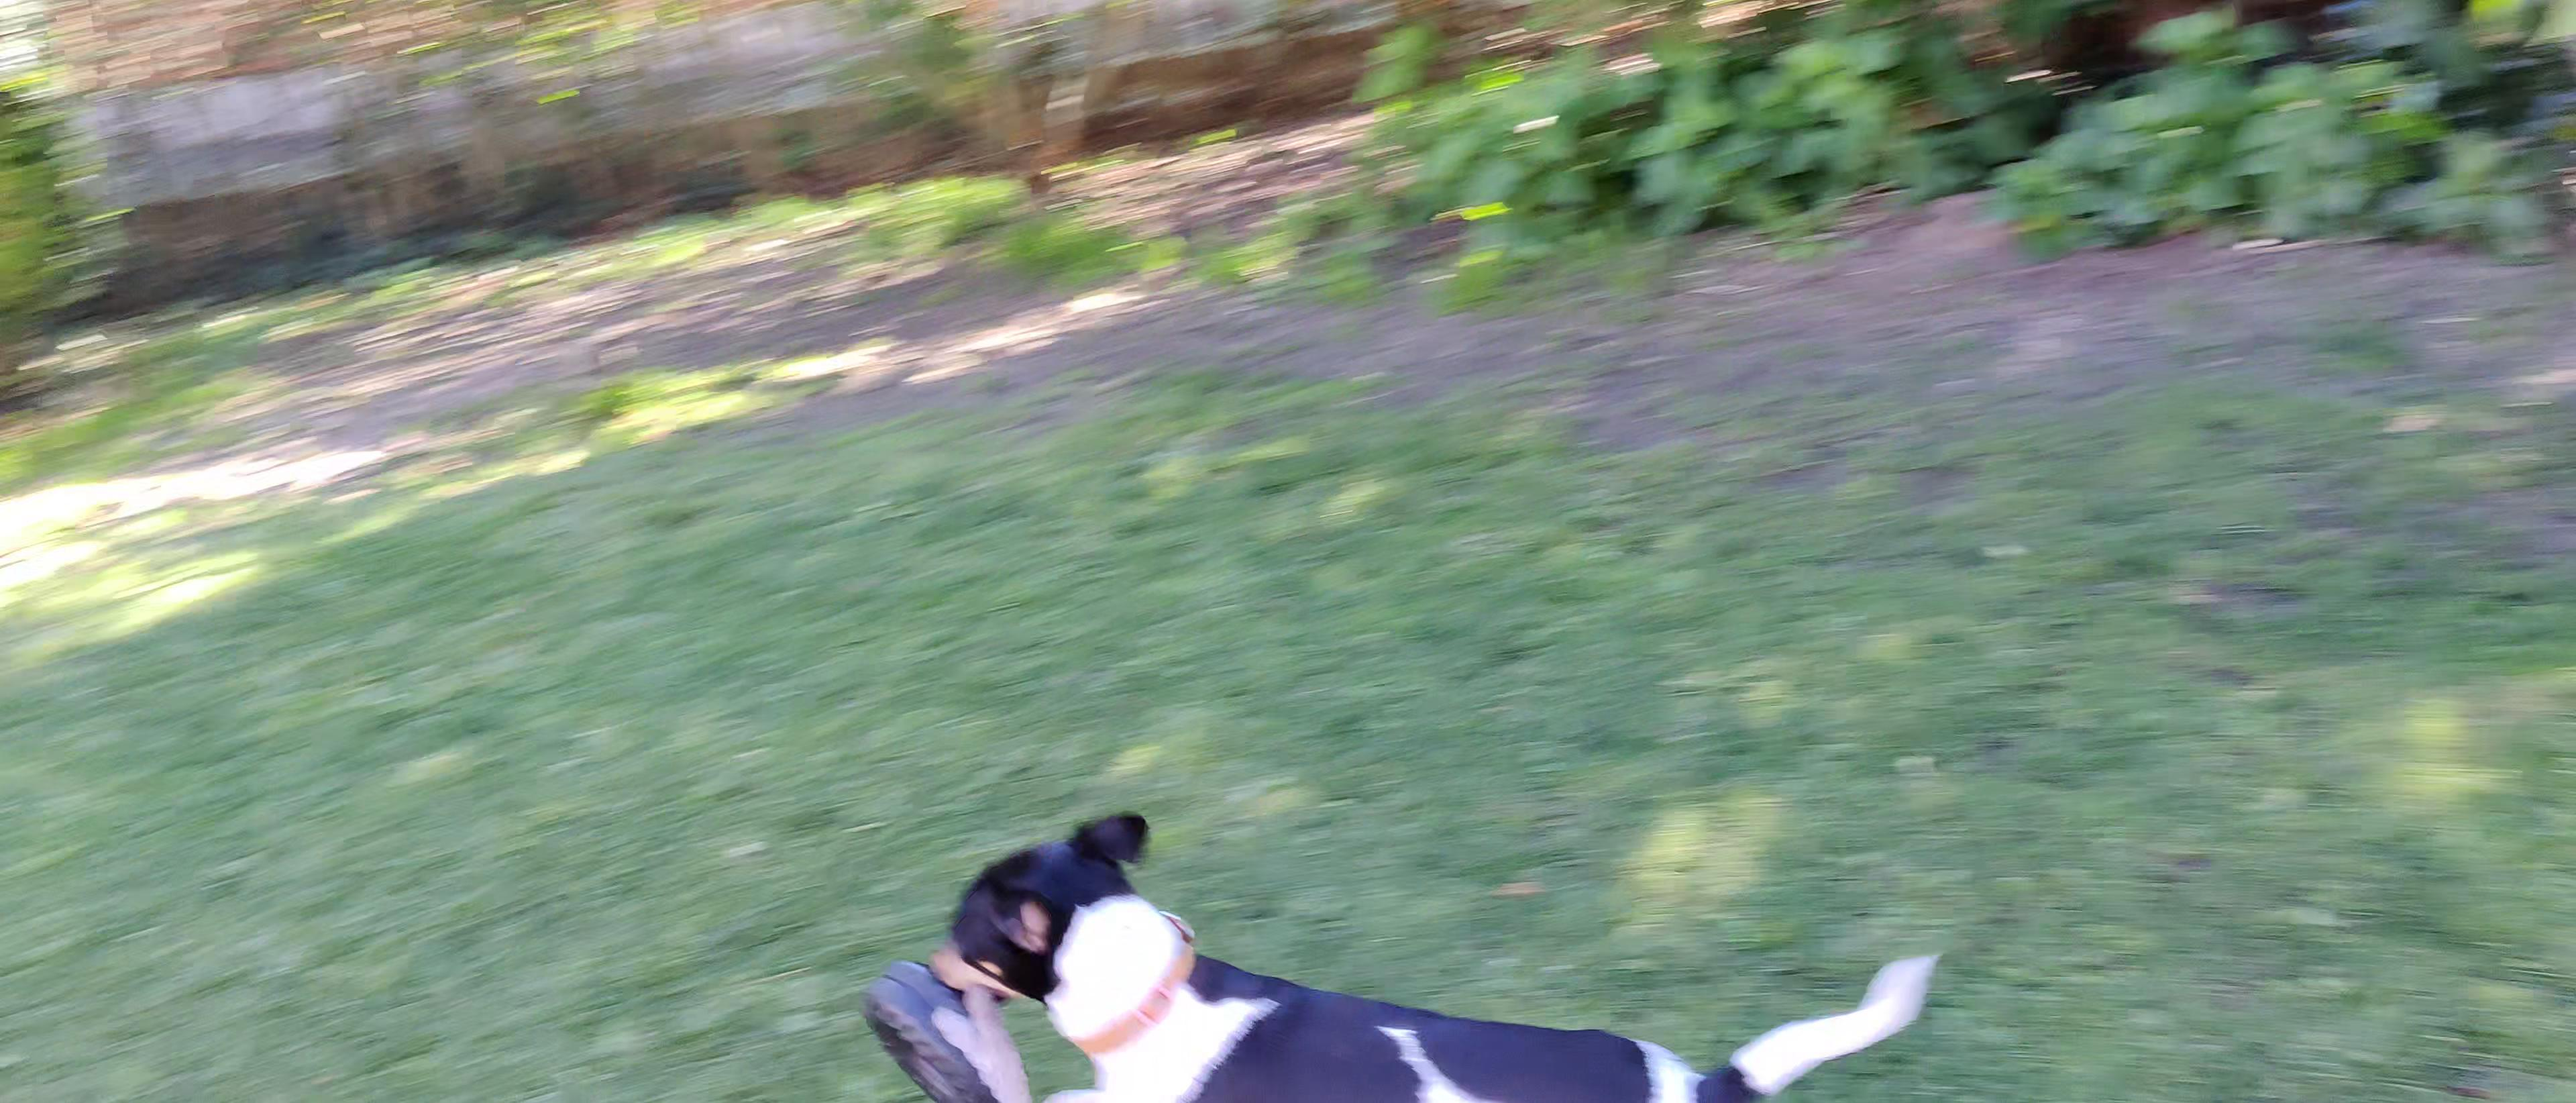Dog: (908, 809, 1953, 1103)
